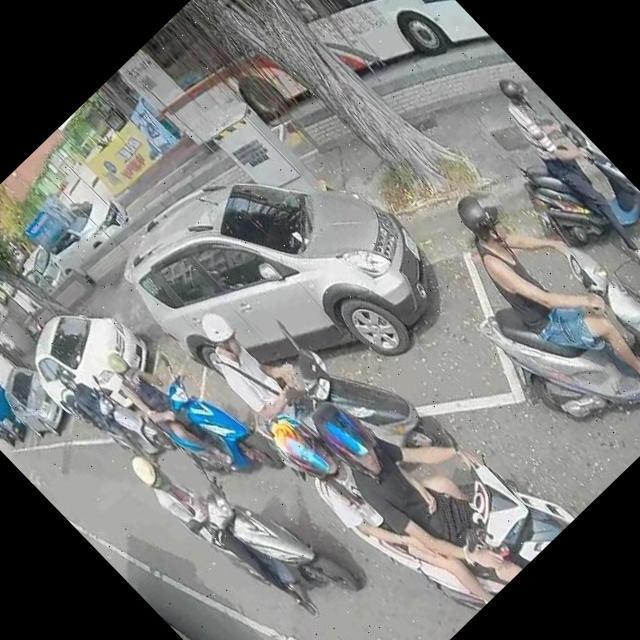person: (253, 355, 528, 634), (296, 343, 568, 617), (425, 157, 640, 425), (121, 426, 328, 638), (472, 62, 640, 284), (179, 294, 336, 454), (92, 323, 248, 481), (53, 363, 163, 475)
